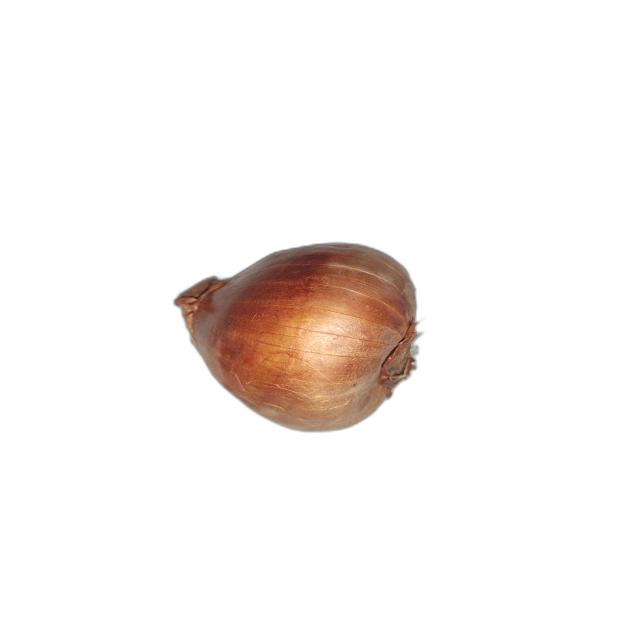onion: (174, 242, 421, 432)
